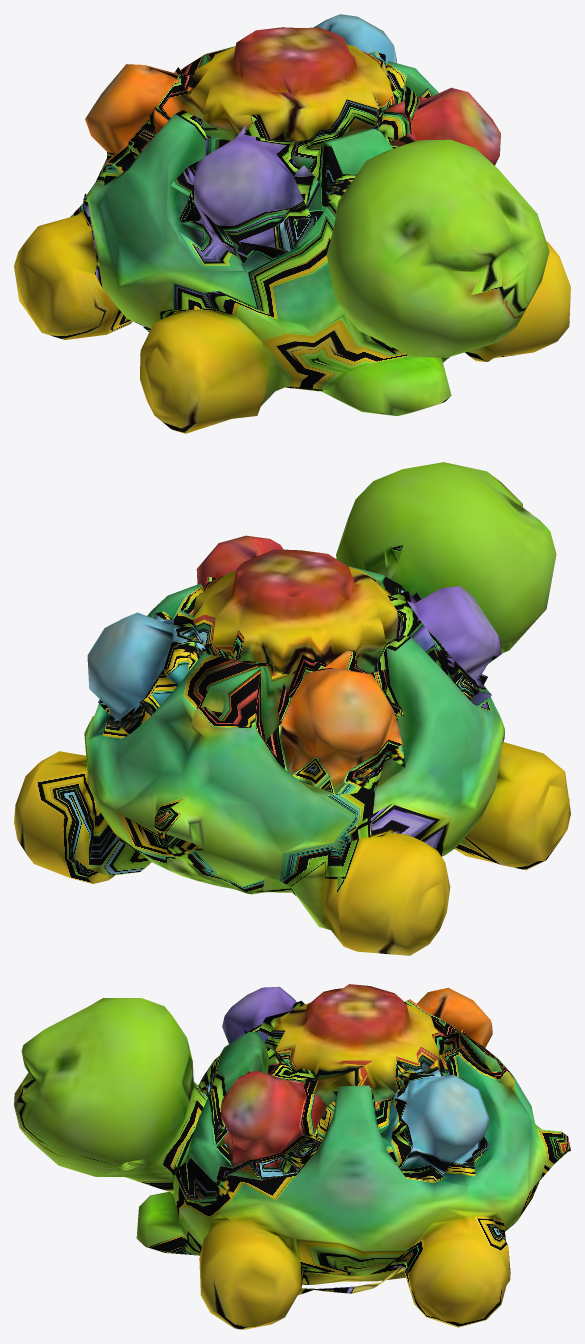
File: gso_vtech_roll_learn_turtle.glb
The picture shows the model from 3 angles, top to bottom: view 1: azimuth 30°, elevation 25°; view 2: azimuth 150°, elevation 25°; view 3: azimuth 270°, elevation 25°; orthographic projection. The views are drawn at different scales.
Parts seen in each view (by area): view 1: z-up-to-y-up; view 2: z-up-to-y-up; view 3: z-up-to-y-up.
Boxes of the visible parts, x1,y1,x2,y2 form: z-up-to-y-up: [14, 14, 570, 433]; z-up-to-y-up: [14, 462, 570, 955]; z-up-to-y-up: [14, 984, 570, 1329].
Bounding box in the file's own units: 0.1691 × 0.1173 × 0.2315.
Materials: 1 (1 with a texture image).
